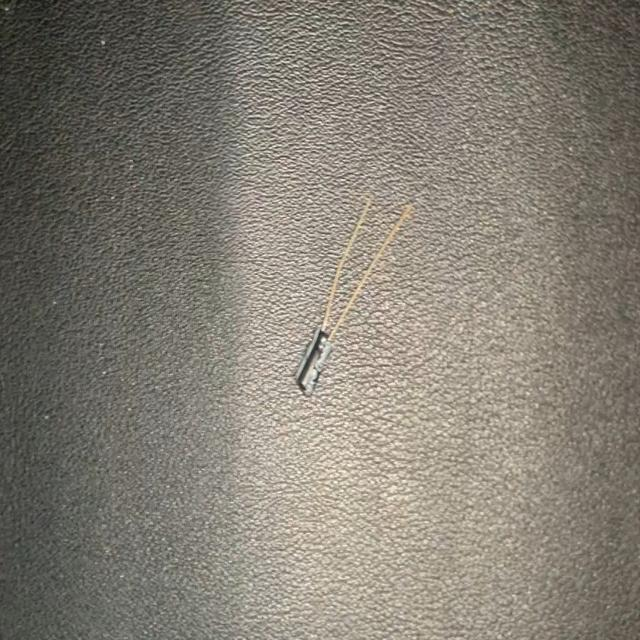capacitor: (294, 197, 412, 398)
